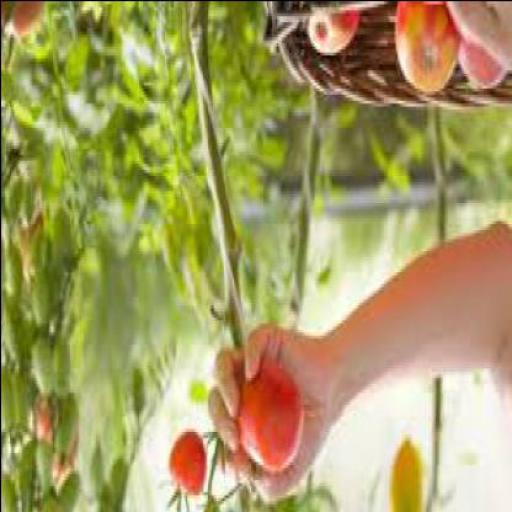biodegradable: (236, 364, 302, 473), (392, 2, 458, 94), (46, 398, 75, 491), (386, 442, 424, 511), (303, 12, 355, 60), (166, 433, 204, 497), (456, 45, 504, 90), (7, 2, 45, 40), (26, 398, 52, 443)
